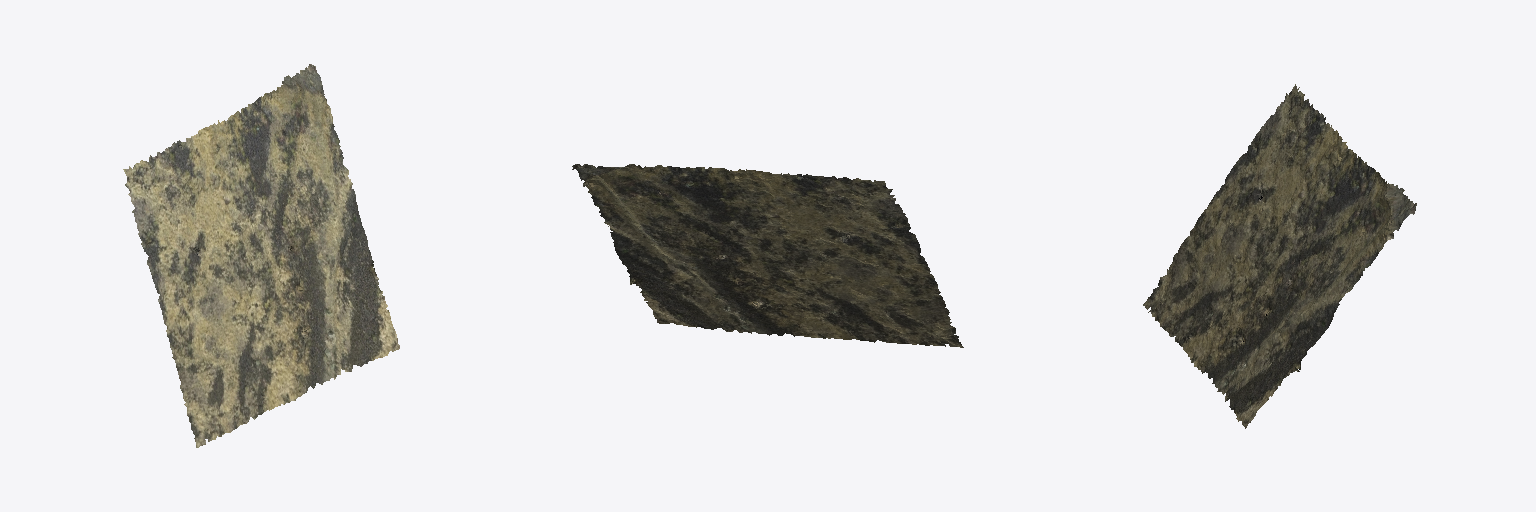
3 views of the same model, side by side, from view 1: azimuth 30°, elevation 25°; view 2: azimuth 150°, elevation 25°; view 3: azimuth 270°, elevation 25° (orthographic).
Size of the model in its own units: 1.14 by 0.9499 by 1.05.
Materials: 1 (1 with a texture image).